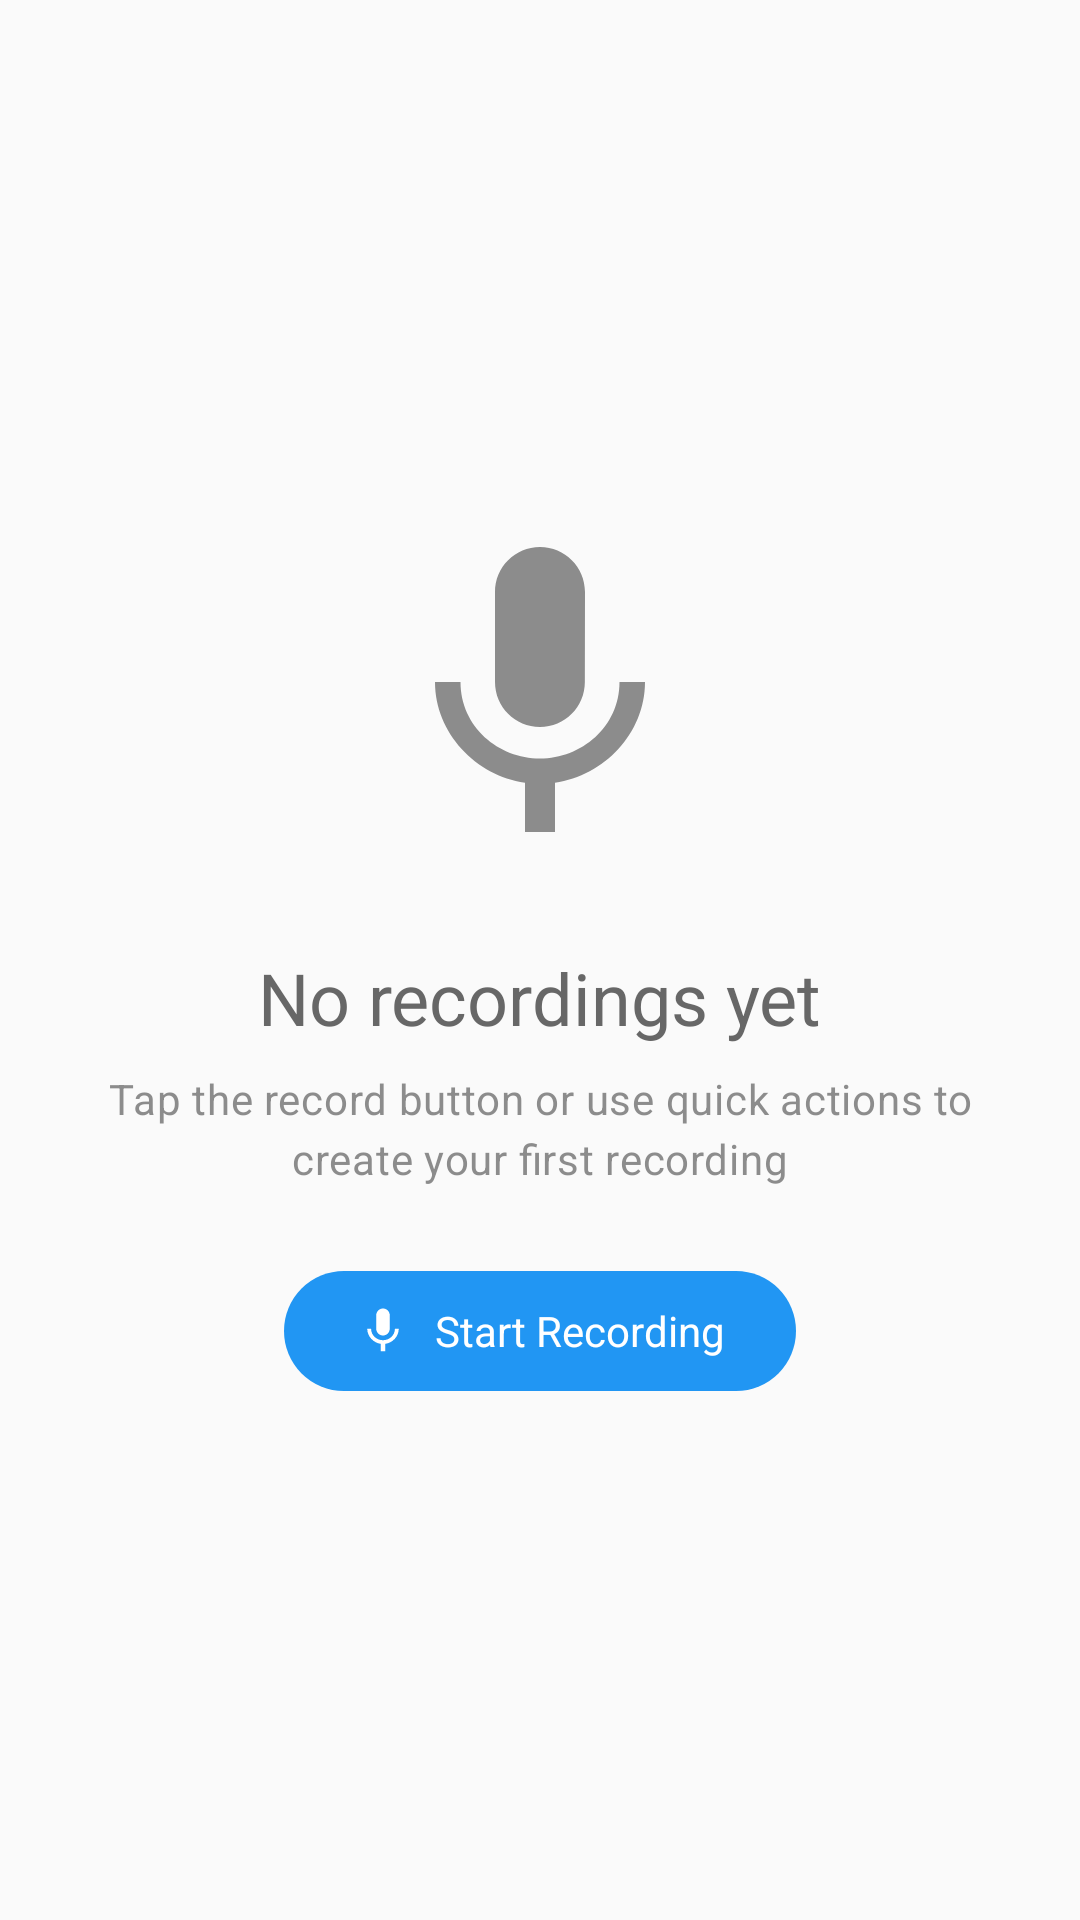

Icons on this 1080 x 1920 Android screen, each with its box as (x1, y1, x2, y2):
mic: (435, 547, 645, 832)
